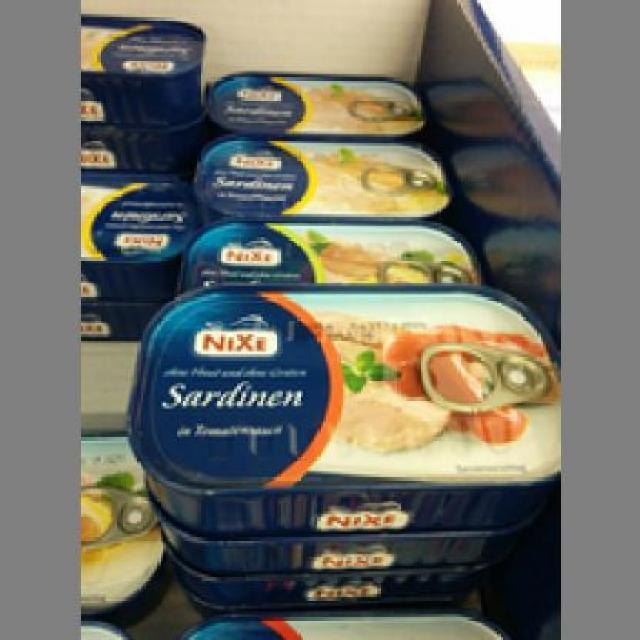Fish: (122, 276, 558, 530), (174, 217, 480, 286), (192, 134, 448, 214), (197, 68, 423, 132)
